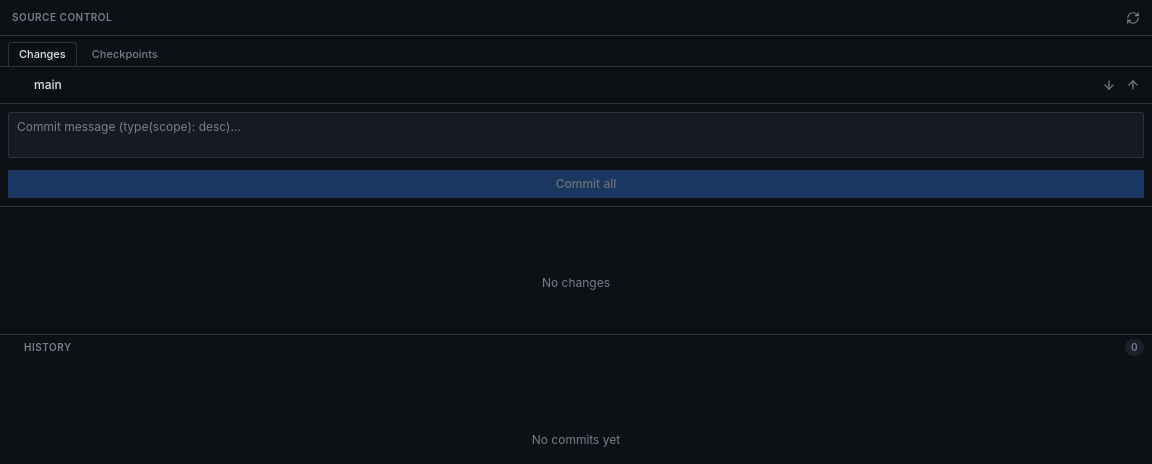
Test: GitPane — Checkpoints sub-tab › switches between Changes and Checkpoints tabs
expect the text box with placeholder "Commit message (type(scope): desc)…" is shown: met, box [8,112,1144,158]
Click the tab "Checkpoints" at coordinates (125, 54), box [81,42,169,66]
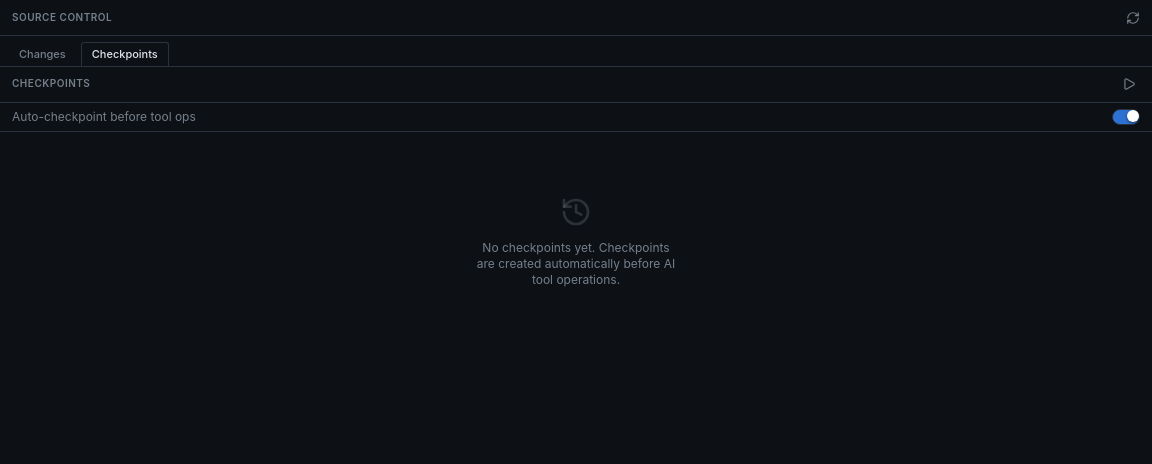
expect the text "No checkpoints yet" is shown: met, box [477,240,675,287]
Click the tab "Changes" at coordinates (42, 54), box [8,42,77,66]
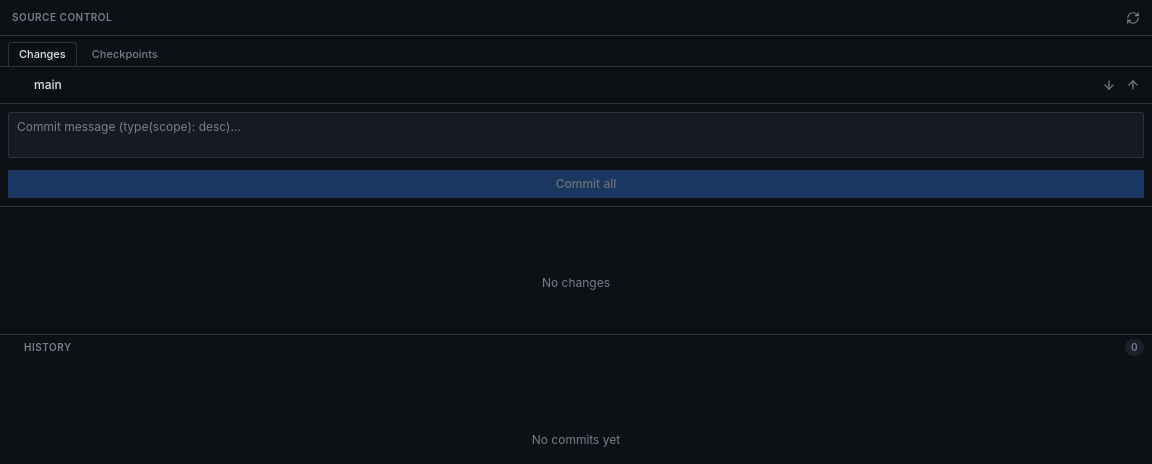
expect the text box with placeholder "Commit message (type(scope): desc)…" is shown: met, box [8,112,1144,158]
